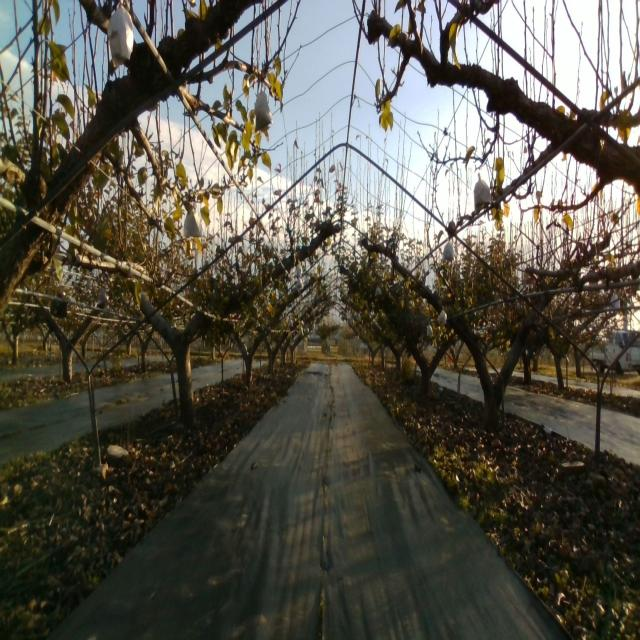pearbags: (106, 0, 134, 69), (254, 90, 273, 134), (474, 171, 492, 211), (182, 208, 203, 240), (442, 238, 455, 261)
